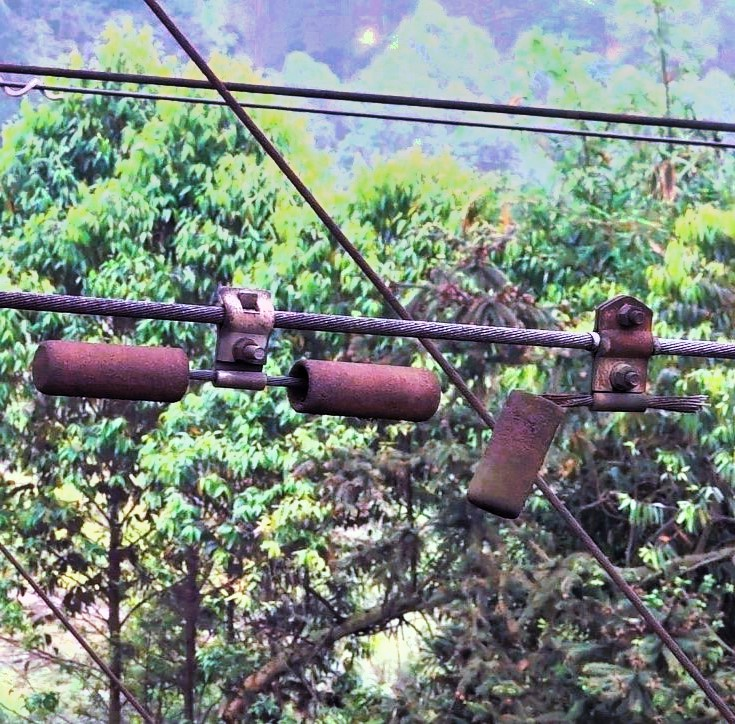Damage of shockproof hammer: (457, 283, 717, 520)
